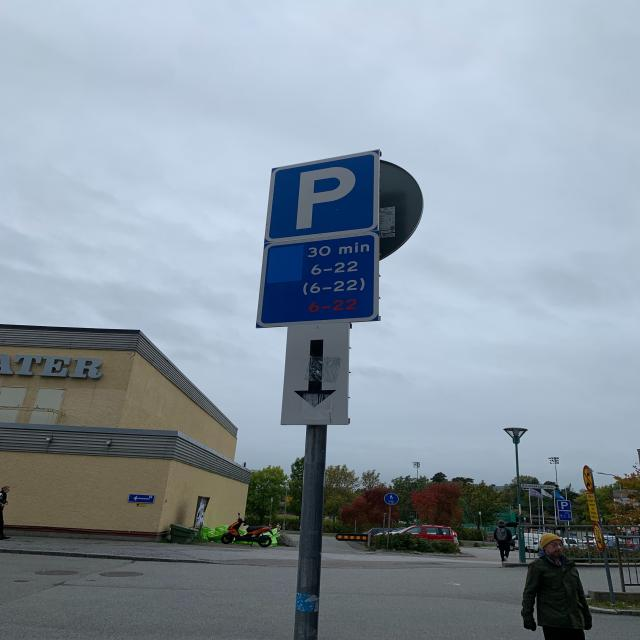psign: (264, 151, 381, 243)
